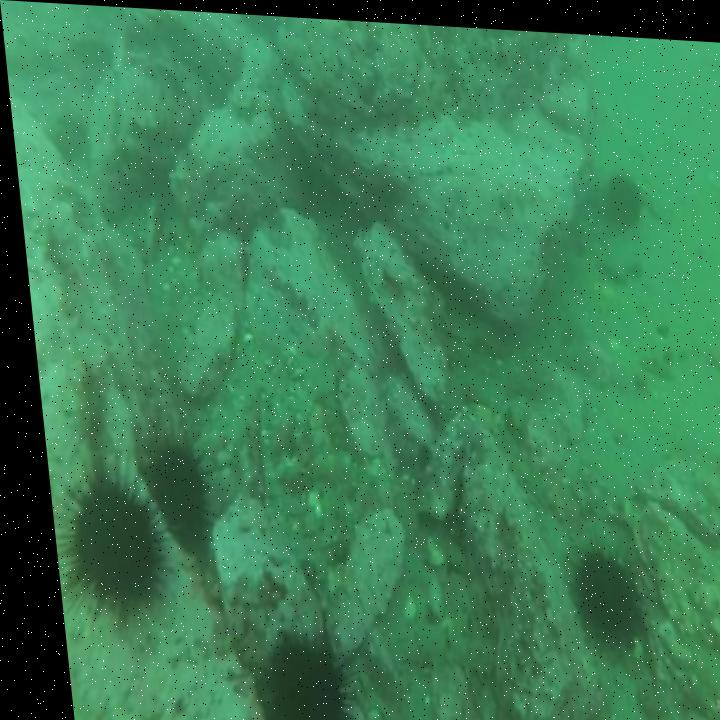echinus: (37, 450, 165, 644), (547, 521, 634, 655), (236, 617, 346, 720), (128, 431, 211, 550), (596, 155, 643, 228)
